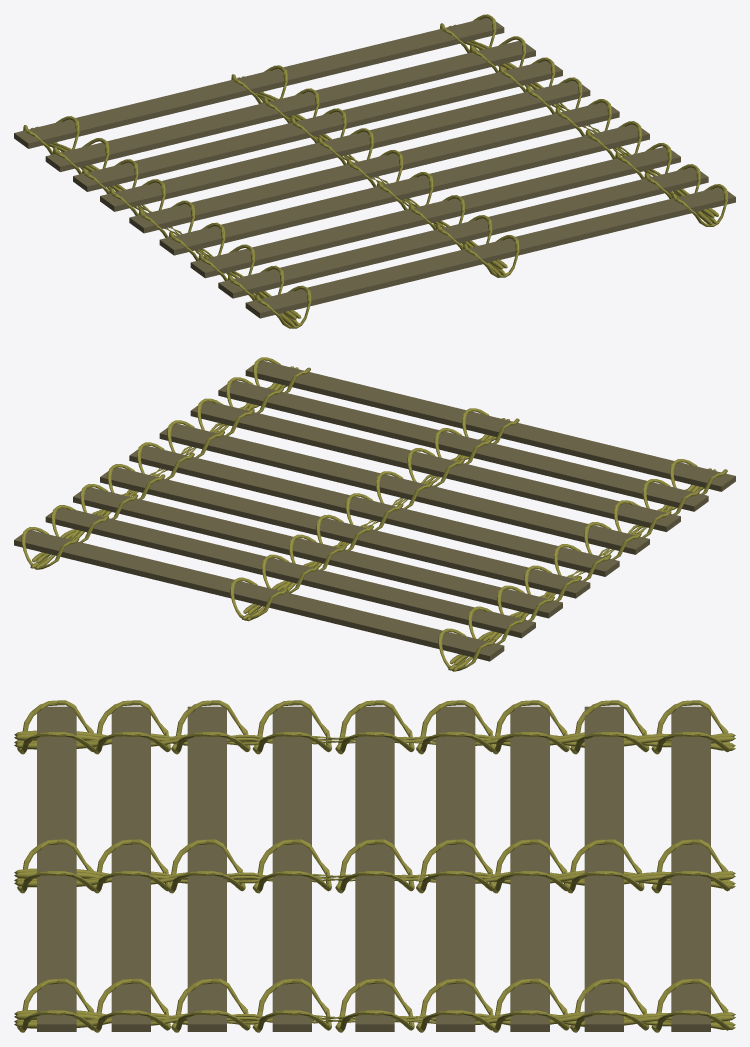
File: Vine bridge1.fbx
3 views of the same model, one above another, from view 1: azimuth 30°, elevation 25°; view 2: azimuth 150°, elevation 25°; view 3: azimuth 270°, elevation 25° (orthographic). The views are drawn at different scales.
Parts seen in each view (by area): view 1: Cube.004, Torus.017, Cylinder.004; view 2: Cube.004, Torus.017, Cylinder.004; view 3: Cube.004, Torus.017, Cylinder.004.
Part boxes in pixels (x1,y1,x2,y2): Cube.004: (14, 18, 735, 318); Torus.017: (23, 14, 727, 328); Cylinder.004: (31, 24, 718, 326); Cube.004: (14, 360, 735, 661); Torus.017: (21, 357, 727, 671); Cylinder.004: (30, 366, 716, 671); Cube.004: (37, 706, 710, 1031); Torus.017: (17, 700, 730, 1032); Cylinder.004: (14, 730, 735, 1029).
Bounding box in the file's own units: 350 × 18.38 × 336.
